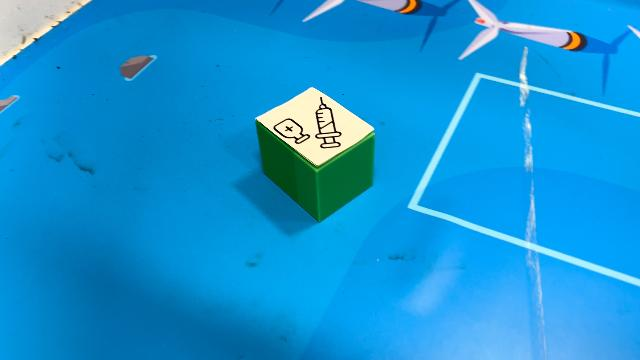syringe: (256, 88, 376, 222)
